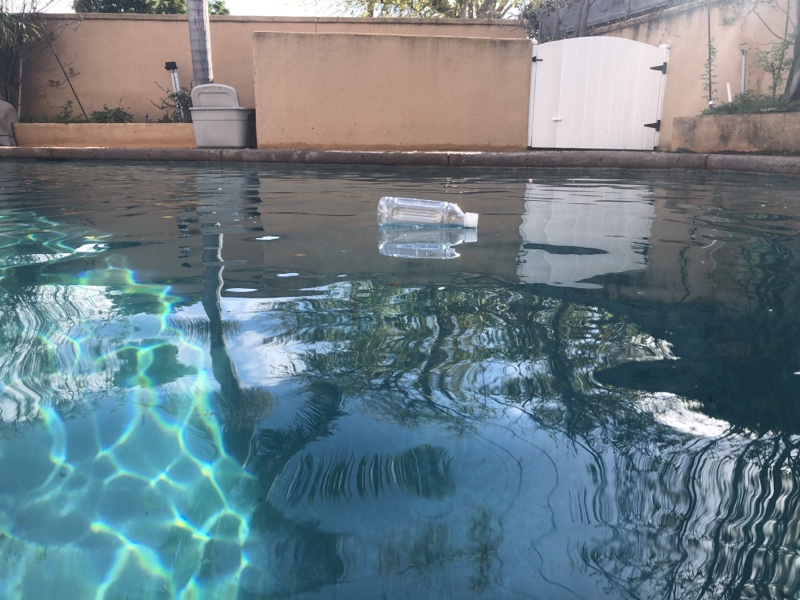Plastic Bottle: (374, 193, 482, 237)
